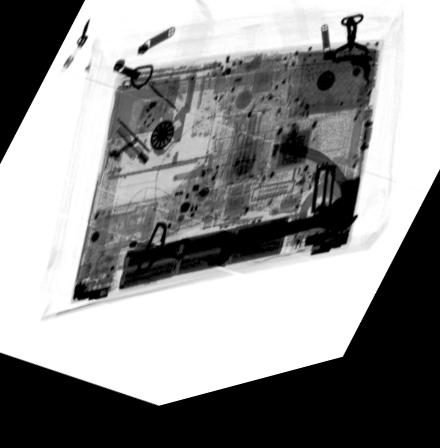Wrench: (203, 223, 357, 279)
